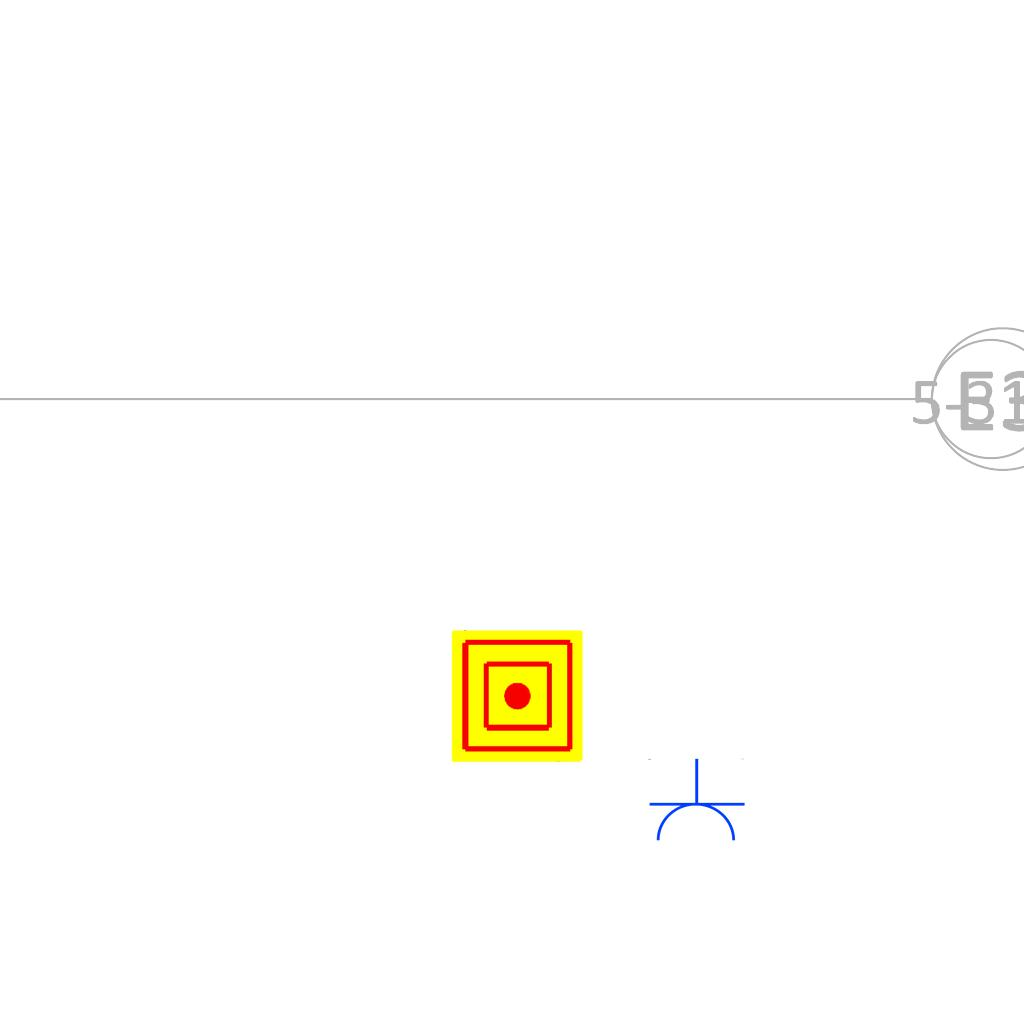NAM-Nichtautomatischer_Melder: (451, 630, 583, 762)
Schukosteckdose_einfach: (646, 758, 746, 845)
